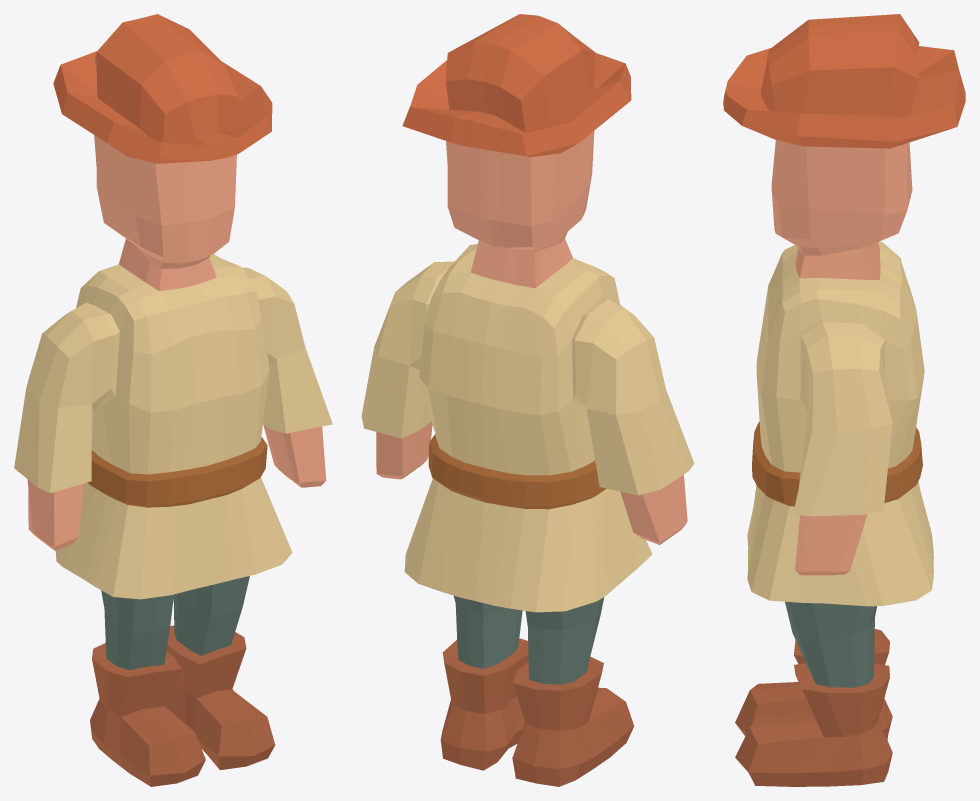
The model's file is peasant_static_01.gltf.
The picture shows the model from 3 angles, left to right: view 1: azimuth 30°, elevation 25°; view 2: azimuth 150°, elevation 25°; view 3: azimuth 270°, elevation 25°; orthographic projection. The views are drawn at different scales.
Parts seen in each view (by area): view 1: peasant_01; view 2: peasant_01; view 3: peasant_01.
Boxes of the visible parts, x1=… form: peasant_01: x1=14, y1=14, x2=332, y2=786; peasant_01: x1=361, y1=14, x2=694, y2=786; peasant_01: x1=723, y1=14, x2=965, y2=786.
Size of the model in its own units: 0.7801 by 1.82 by 0.5434.
Materials: 1 (1 with a texture image).
